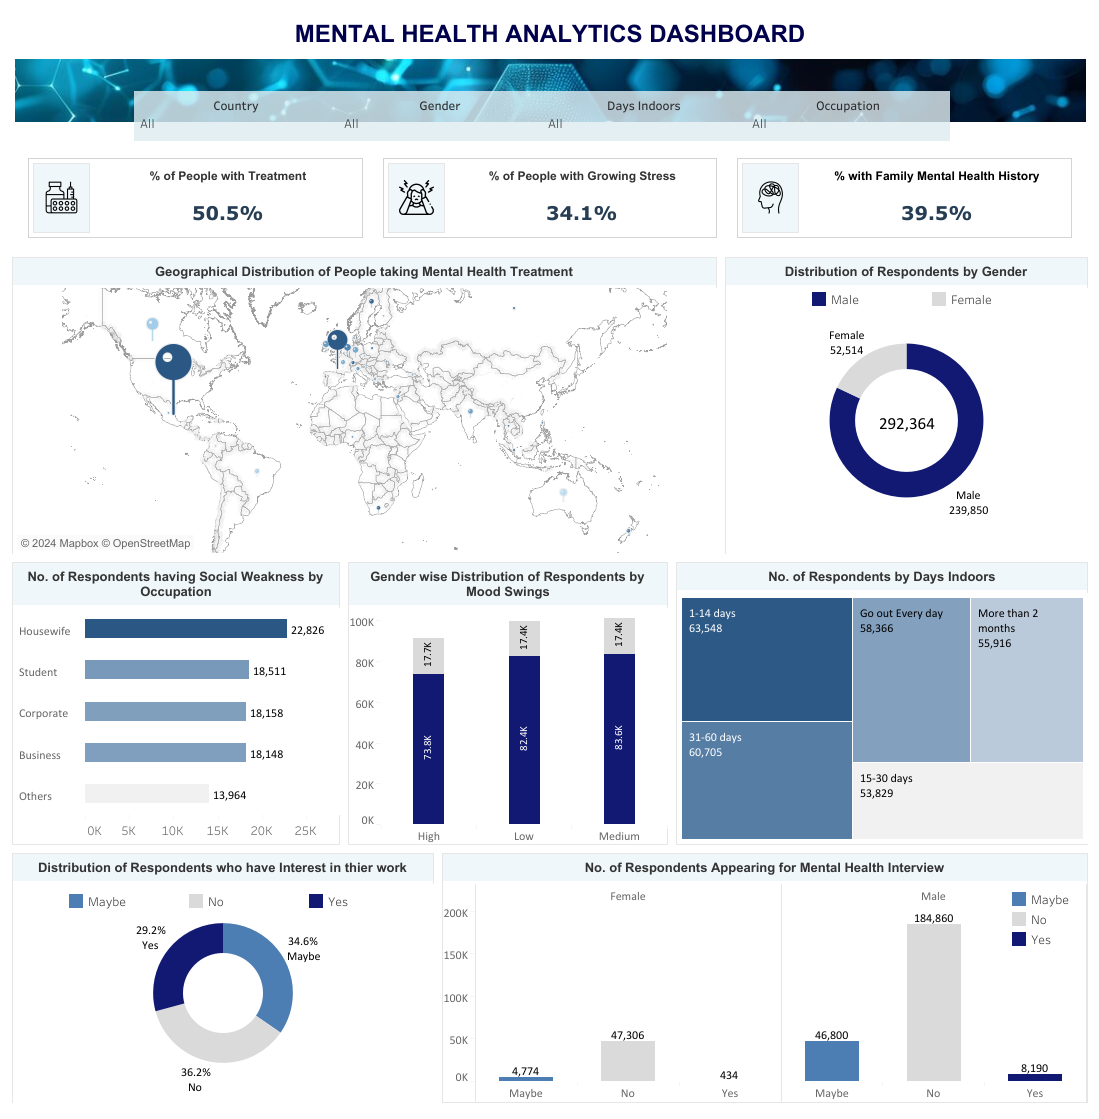

The dashboard page shown, as its layout file describes it:
{"tool":"tableau","page":{"name":"Dashboard","canvas":[1100,1120],"ordinal":0},"visuals":[{"type":"text","box":[8,8,1084,51]},{"type":"image","param":"Image/360_F_863486624_n2eAmpQjVbPmqoYzVm2KPzzTmYfDsPY6.jpg","box":[8,59,1084,63]},{"type":"filter","title":"Sheet 2","param":"[federated.044n8mk1f5wz8s18cyniu1xhhu98].[none:Country:nk]","box":[134,91,204,50]},{"type":"filter","title":"Sheet 1","param":"[federated.044n8mk1f5wz8s18cyniu1xhhu98].[none:Gender:nk]","box":[338,91,204,50]},{"type":"filter","title":"Sheet 10","param":"[federated.044n8mk1f5wz8s18cyniu1xhhu98].[none:Days_Indoors:nk]","box":[542,91,204,50]},{"type":"filter","title":"Sheet 11","param":"[federated.044n8mk1f5wz8s18cyniu1xhhu98].[none:Occupation:nk]","box":[746,91,204,50]},{"type":"blank","box":[8,122,1084,36]},{"type":"blank","box":[8,158,20,80]},{"type":"blank","box":[362.7,158,20,80]},{"type":"blank","box":[717.3,158,20,80]},{"type":"blank","box":[1072,158,20,80]},{"type":"image","param":"Image/medical.png","box":[29,159,65,78]},{"type":"worksheet","title":"Sheet 7","mark":"Automatic","box":[94,159,267.7,78]},{"type":"image","param":"Image/fear.png","box":[383.7,159,65,78]},{"type":"worksheet","title":"Sheet 7 (2)","mark":"Automatic","box":[448.7,159,267.7,78]},{"type":"image","param":"Image/mental-disorder.png","box":[738.3,159,65,78]},{"type":"worksheet","title":"Sheet 7 (3)","mark":"Automatic","box":[803.3,159,267.7,78]},{"type":"blank","box":[8,238,1084,15]},{"type":"worksheet","title":"Sheet 2","mark":"Shape","box":[8,253,713,305]},{"type":"worksheet","title":"Sheet 1","mark":"Pie","rows":["Calculation_597571424677851144","Calculation_597571424677863434"],"box":[721,253,371,305]},{"type":"legend","title":"Sheet 1","param":"[federated.044n8mk1f5wz8s18cyniu1xhhu98].[none:Gender:nk]","box":[809,289,294,29]},{"type":"worksheet","title":"Sheet 11","mark":"Automatic","rows":["Occupation"],"cols":["Mental Health Dataset.csv_6832367012D245AF90D946A53A1C4EFA"],"box":[8,558,336,291]},{"type":"worksheet","title":"Sheet 12","mark":"Automatic","rows":["Mental Health Dataset.csv_6832367012D245AF90D946A53A1C4EFA"],"cols":["Mood_Swings"],"box":[344,558,328,291]},{"type":"worksheet","title":"Sheet 10","mark":"Automatic","box":[672,558,420,291]},{"type":"worksheet","title":"Sheet 13","mark":"Pie","rows":["Calculation_597571424693006348","Calculation_597571424693018638"],"box":[8,849,430,258]},{"type":"worksheet","title":"Sheet 15","mark":"Automatic","rows":["Mental Health Dataset.csv_6832367012D245AF90D946A53A1C4EFA"],"cols":["Gender","mental_health_interview"],"box":[438,849,654,258]},{"type":"legend","title":"Sheet 13","param":"[federated.044n8mk1f5wz8s18cyniu1xhhu98].[none:Work_Interest:nk]","box":[66,891,399,18]}]}

Visuals, with their boxes in screenshot pixels (x1, y1, x2, y2), scaled from the page's 1100x1120 canvas onto the 1099x1119 screenshot:
text: l=8, t=8, r=1091, b=59
image: l=8, t=59, r=1091, b=122
"Sheet 2" filter: l=134, t=91, r=338, b=141
"Sheet 1" filter: l=338, t=91, r=542, b=141
"Sheet 10" filter: l=542, t=91, r=745, b=141
"Sheet 11" filter: l=745, t=91, r=949, b=141
blank: l=8, t=122, r=1091, b=158
blank: l=8, t=158, r=28, b=238
blank: l=362, t=158, r=382, b=238
blank: l=717, t=158, r=737, b=238
blank: l=1071, t=158, r=1091, b=238
image: l=29, t=159, r=94, b=237
"Sheet 7" worksheet: l=94, t=159, r=361, b=237
image: l=383, t=159, r=448, b=237
"Sheet 7 (2)" worksheet: l=448, t=159, r=716, b=237
image: l=738, t=159, r=803, b=237
"Sheet 7 (3)" worksheet: l=803, t=159, r=1070, b=237
blank: l=8, t=238, r=1091, b=253
"Sheet 2" worksheet (Shape marks): l=8, t=253, r=720, b=558
"Sheet 1" worksheet (Pie marks): l=720, t=253, r=1091, b=558
"Sheet 1" legend: l=808, t=289, r=1098, b=318
"Sheet 11" worksheet: l=8, t=558, r=344, b=848
"Sheet 12" worksheet: l=344, t=558, r=671, b=848
"Sheet 10" worksheet: l=671, t=558, r=1091, b=848
"Sheet 13" worksheet (Pie marks): l=8, t=848, r=438, b=1106
"Sheet 15" worksheet: l=438, t=848, r=1091, b=1106
"Sheet 13" legend: l=66, t=890, r=465, b=908
